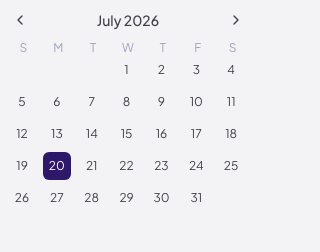
Scenario: Calendar › navigating to the next month updates the header and day options
Click the button named "Next month". click: {"x": 236, "y": 20}
box: [224,8,248,32]
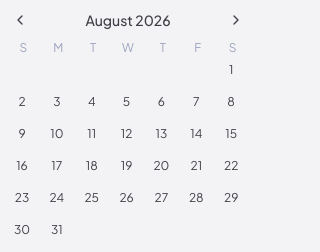
Check: the text "August 2026" is shown, box [85,10,171,30]
Check: the button named "August 15, 2026" is shown, box [217,120,245,148]
